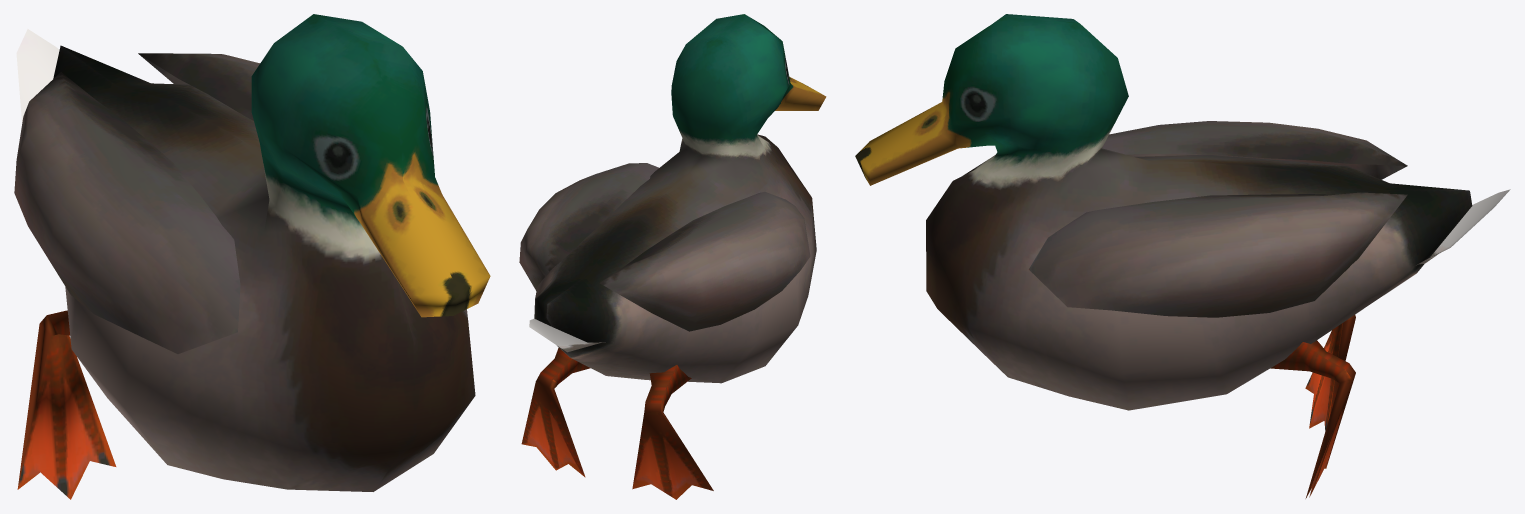
File: coolnard.fbx
3 views of the same model, side by side, from view 1: azimuth 30°, elevation 25°; view 2: azimuth 150°, elevation 25°; view 3: azimuth 270°, elevation 25° (orthographic). The views are drawn at different scales.
Parts seen in each view (by area): view 1: Body__DuckFlockMaterial; view 2: Body__DuckFlockMaterial; view 3: Body__DuckFlockMaterial.
Part boxes in pixels (<box>): Body__DuckFlockMaterial: <box>14,14,490,499</box>; Body__DuckFlockMaterial: <box>519,14,826,499</box>; Body__DuckFlockMaterial: <box>855,14,1510,498</box>.
Bounding box in the file's own units: 15.46 × 24.43 × 32.5.
